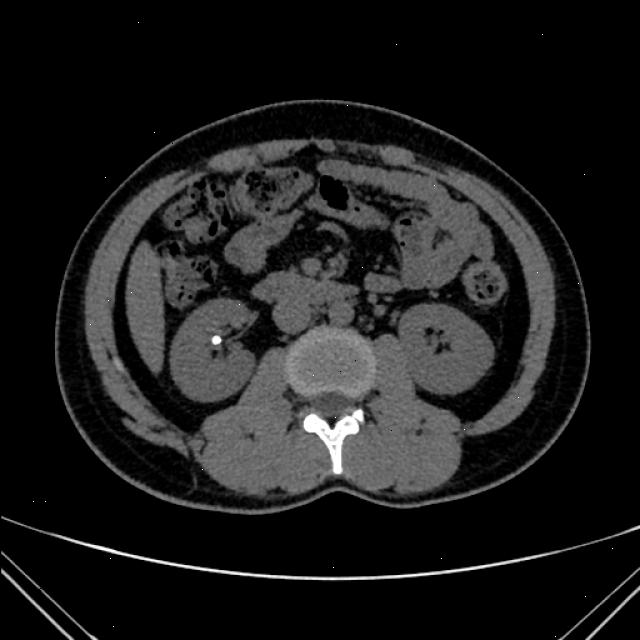kidneystone: (212, 335, 221, 344)
